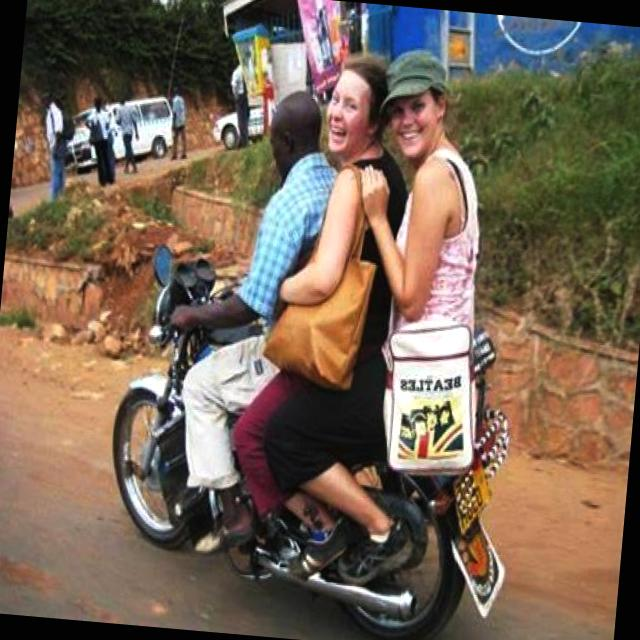motorcycle: (87, 249, 532, 640)
person: (333, 42, 498, 528), (148, 71, 340, 484), (289, 53, 408, 474)
rider_region: (92, 26, 552, 640)
